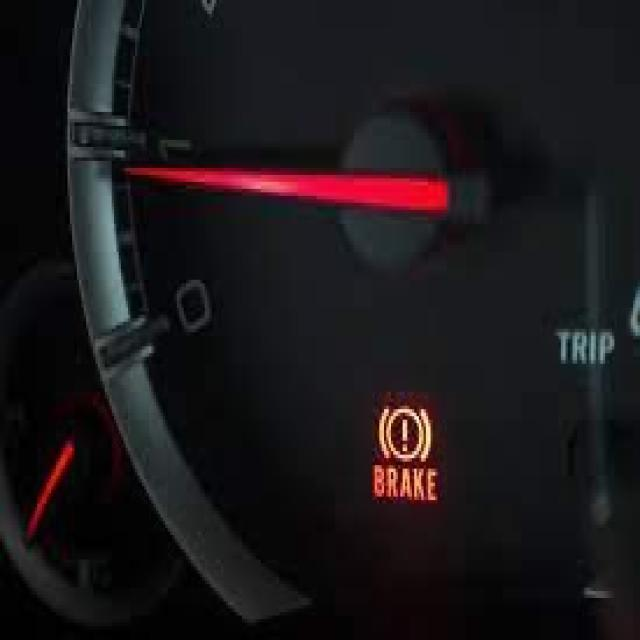kontrolka: (363, 388, 450, 520)
